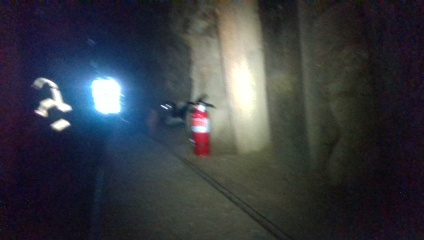fire_extinguisher: (182, 93, 218, 158)
manikin: (33, 58, 90, 156)
